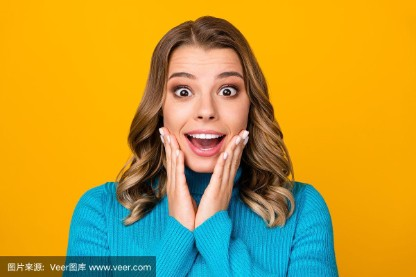张嘴: (180, 126, 228, 160)
